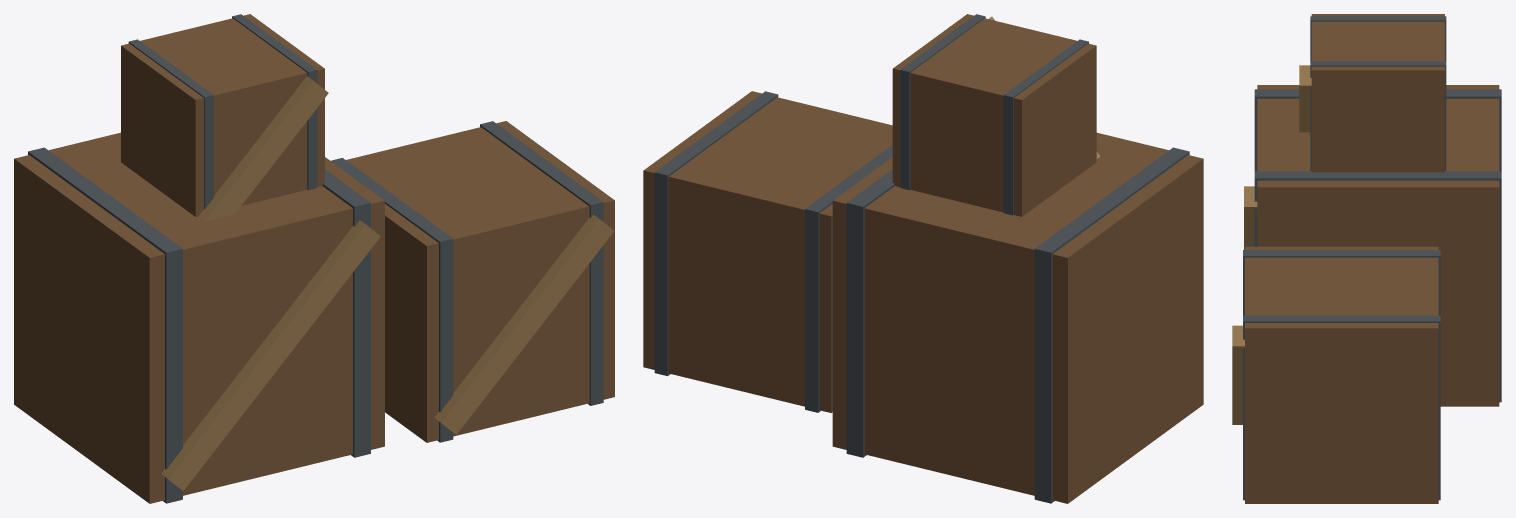
The model's file is cargo.glb.
The picture shows the model from 3 angles, left to right: view 1: azimuth 30°, elevation 25°; view 2: azimuth 150°, elevation 25°; view 3: azimuth 270°, elevation 25°; orthographic projection. The views are drawn at different scales.
Parts seen in each view (by area): view 1: cargo; view 2: cargo; view 3: cargo.
Boxes of the visible parts, <box> form: cargo: <box>14,14,614,503</box>; cargo: <box>643,14,1203,503</box>; cargo: <box>1232,14,1501,503</box>.
Size of the model in its own units: 1.95 by 1.49 by 1.11.
